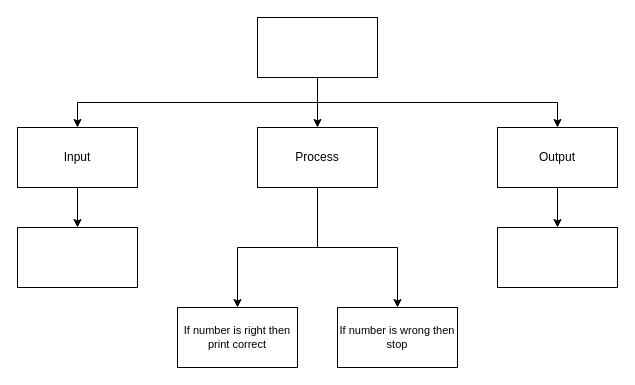
This 635x385 diagram has some shape labels left out. Here are the shapes that lost their labels. From the top down, the box of each, then its label:
(256, 16, 378, 78): Guessing number
(16, 226, 138, 288): Get number
(496, 226, 618, 288): Show answer
